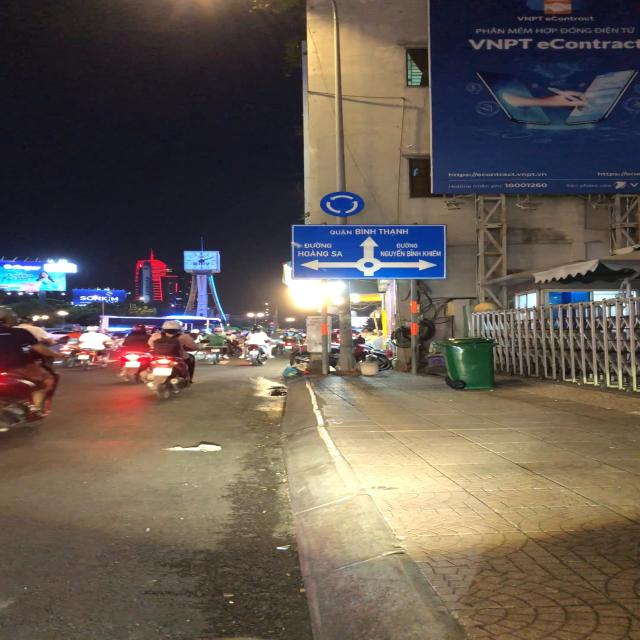Bien bao noi giao nhau chay theo vong xuyen: (318, 190, 367, 218)
